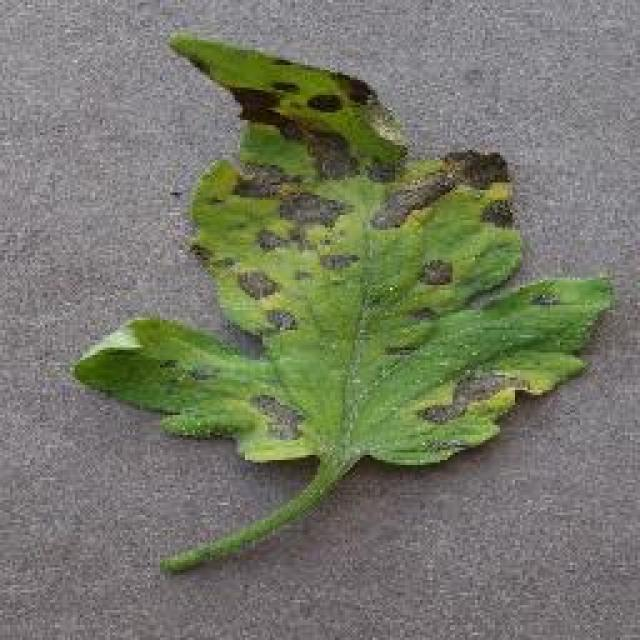Tomato Early blight leaf: (68, 31, 612, 569)
